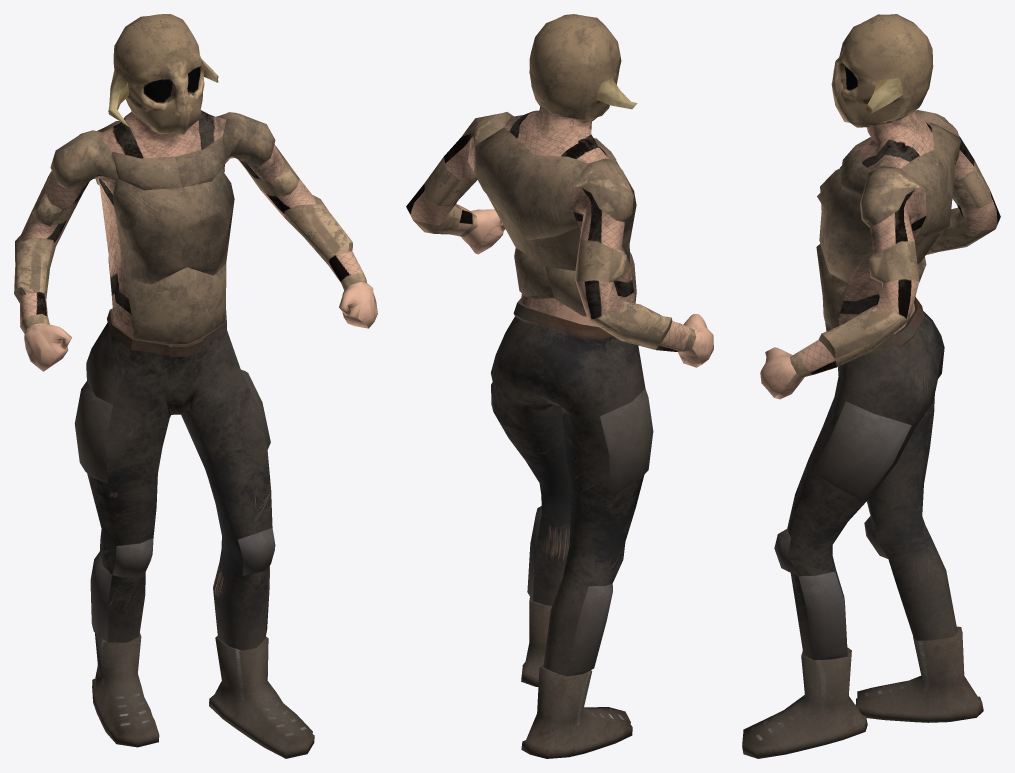
The model's file is Anim_ataque_d1_npc1.0030.obj.
3 renders of one model, left to right at view 1: azimuth 30°, elevation 25°; view 2: azimuth 150°, elevation 25°; view 3: azimuth 270°, elevation 25°, orthographic.
Visible parts, largest first — view 1: NPC2; view 2: NPC2; view 3: NPC2.
Part boxes in pixels (left/top/right/bottom): NPC2: left=14, top=14, right=377, bottom=758; NPC2: left=406, top=14, right=713, bottom=758; NPC2: left=742, top=14, right=1000, bottom=758.
Size of the model in its own units: 4.23 by 9.57 by 3.18.
